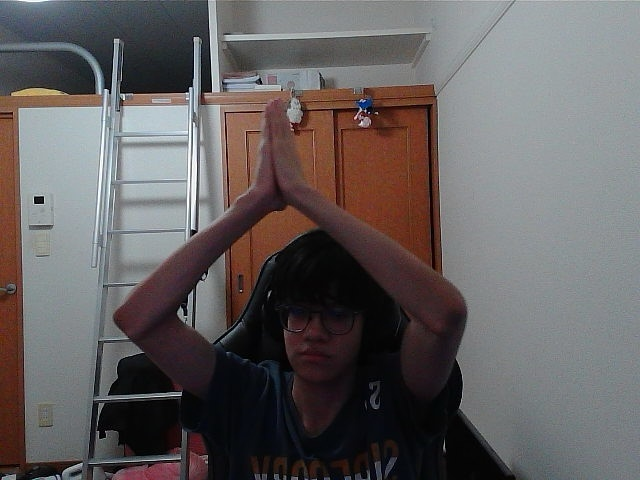pray: (261, 117, 298, 207)
